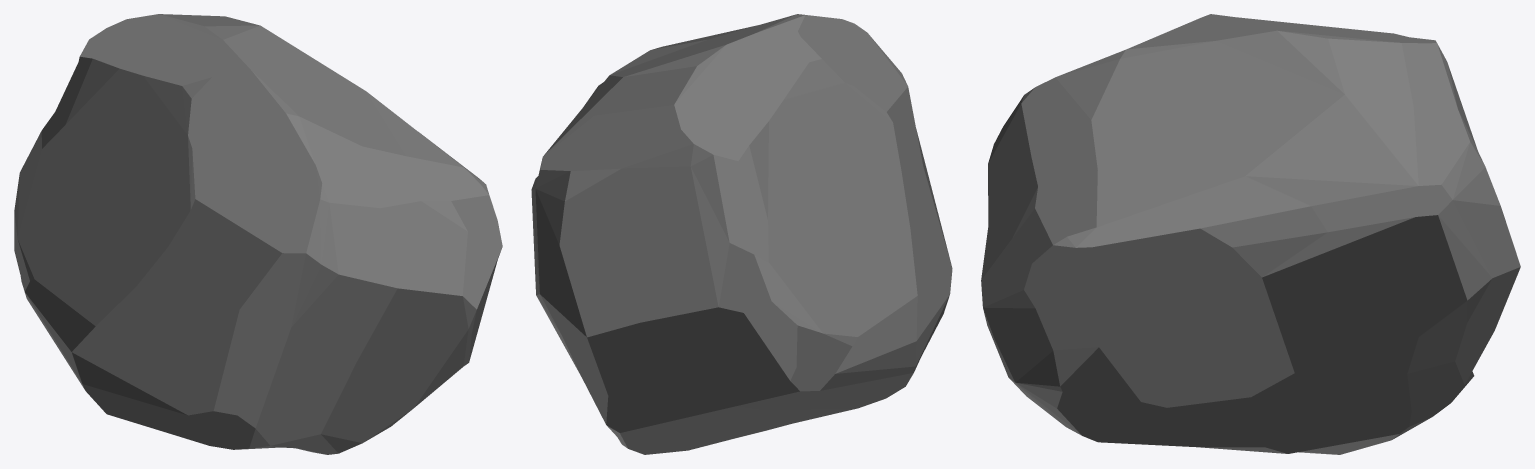
The model's file is rock4.obj.
The picture shows the model from 3 angles, left to right: view 1: azimuth 30°, elevation 25°; view 2: azimuth 150°, elevation 25°; view 3: azimuth 270°, elevation 25°; orthographic projection. The views are drawn at different scales.
Visible parts, largest first — view 1: Cube; view 2: Cube; view 3: Cube.
Part boxes in pixels (x1,y1,x2,y2): Cube: [14, 14, 502, 454]; Cube: [531, 14, 952, 454]; Cube: [981, 14, 1520, 454].
Size of the model in its own units: 2.37 by 2.55 by 3.03.
Materials: 1 (1 with a texture image).
